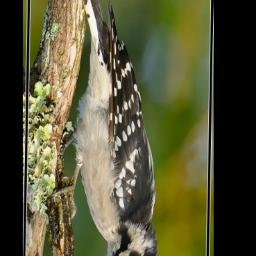Woodpecker: (54, 0, 166, 256)
